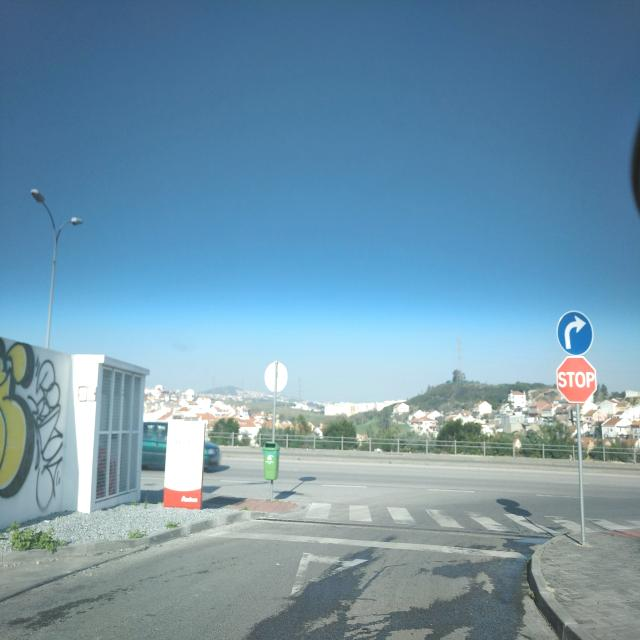car: (203, 440, 221, 470)
